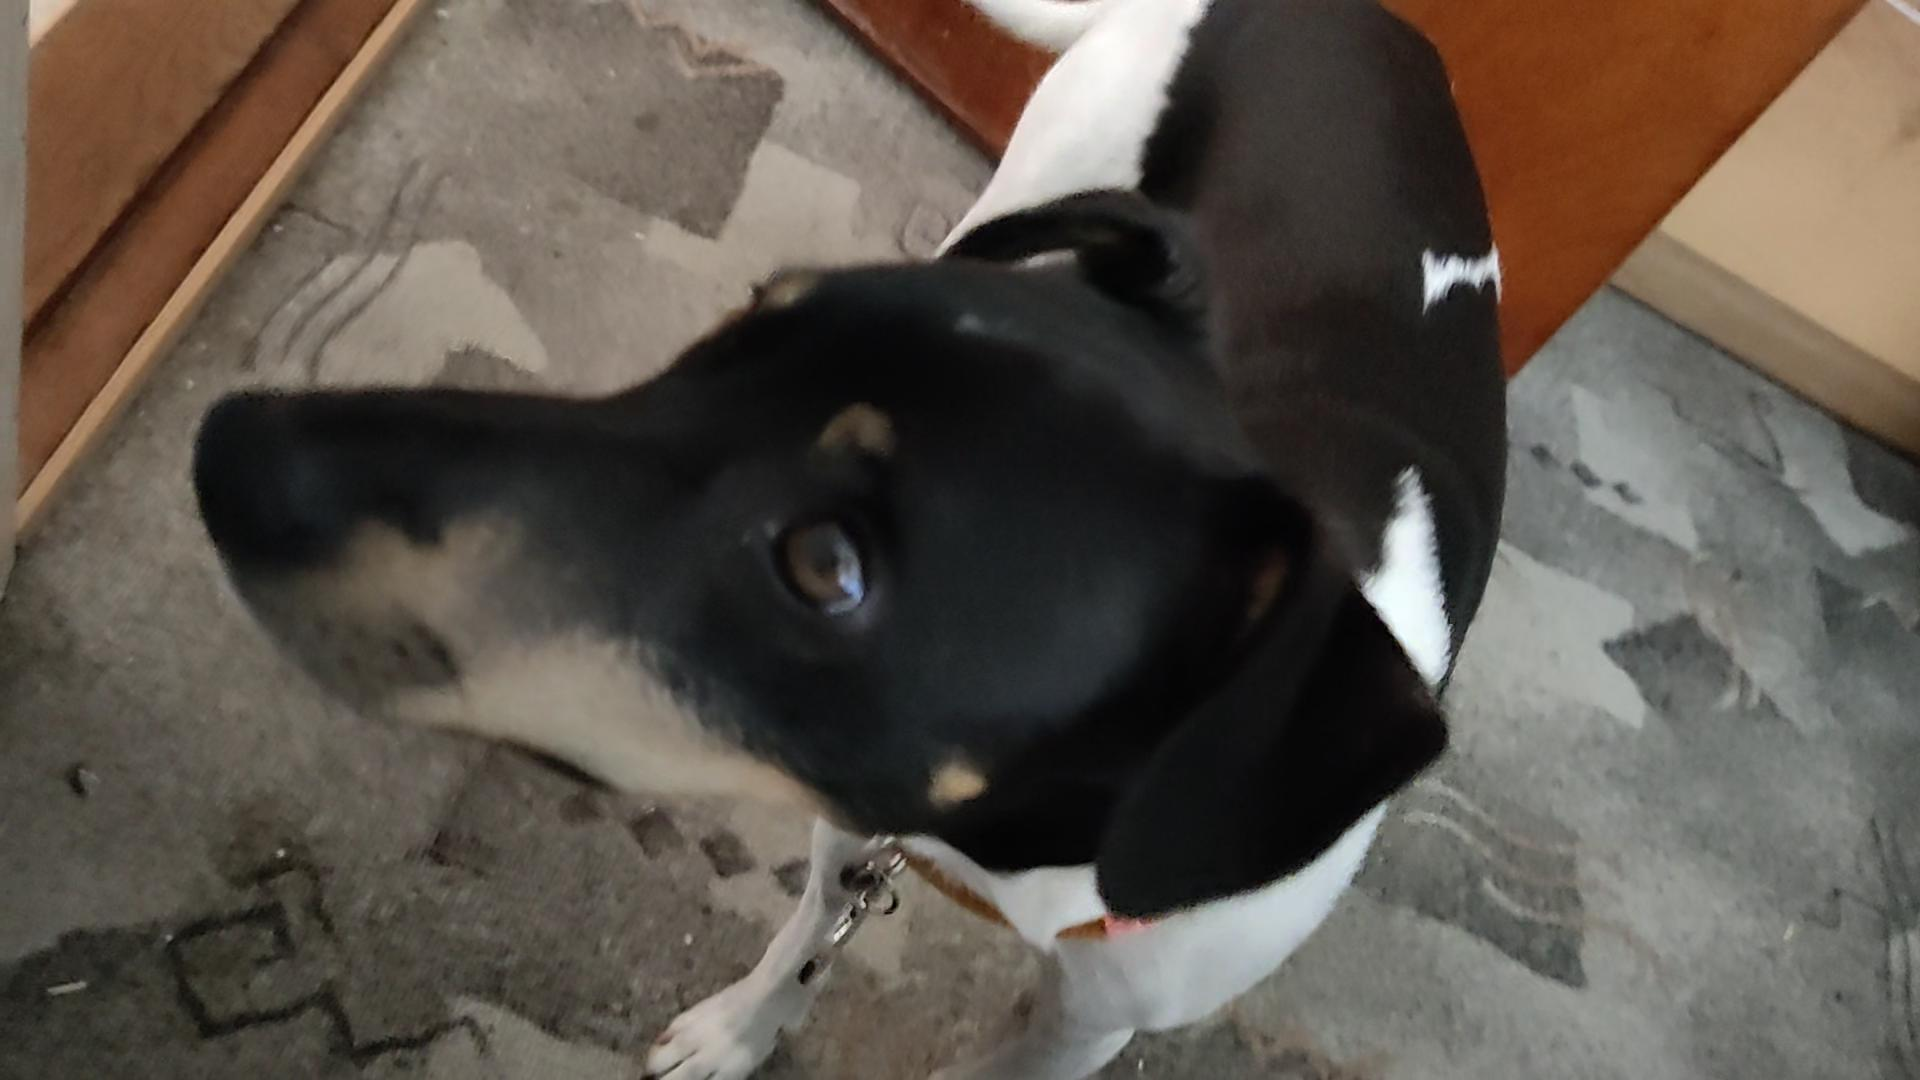Dog: (175, 0, 1513, 1079)
